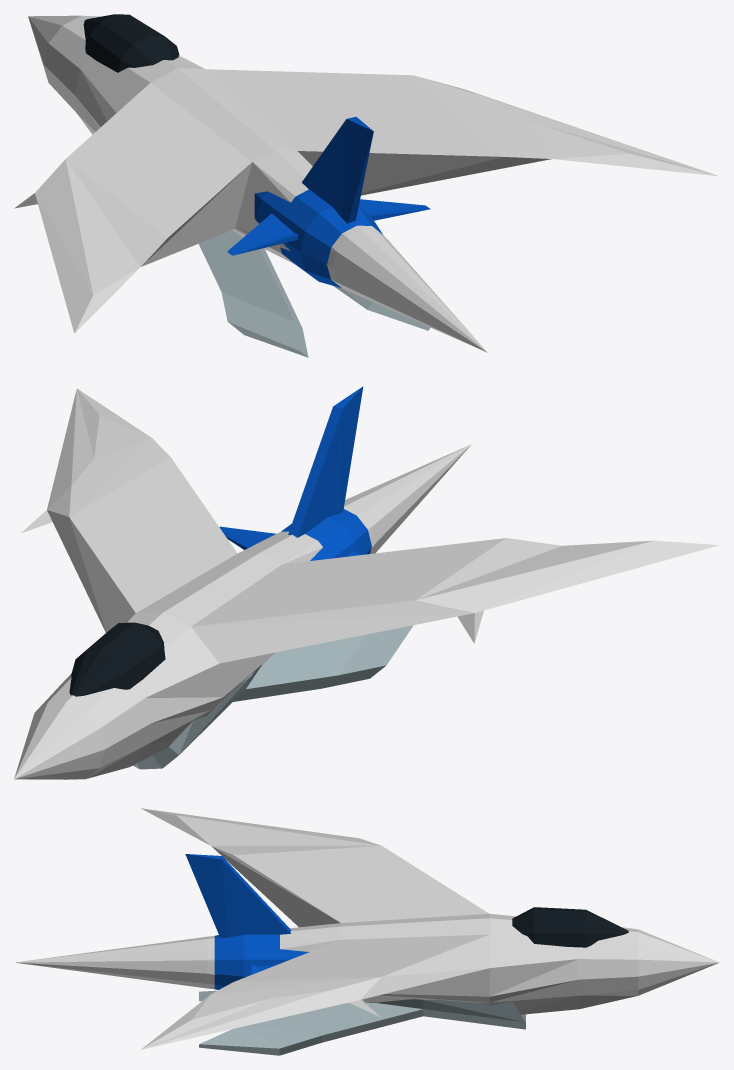
The model's file is jet.obj.
3 views of the same model, one above another, from view 1: azimuth 30°, elevation 25°; view 2: azimuth 150°, elevation 25°; view 3: azimuth 270°, elevation 25° (orthographic). The views are drawn at different scales.
Parts seen in each view (by area): view 1: group1908365863, group1246711120, group1270747425, group2037710231, group1499290911; view 2: group1908365863, group1246711120, group1270747425, group1499290911, group2037710231; view 3: group1908365863, group1246711120, group1270747425, group1499290911, group2037710231.
Part boxes in pixels (box(x1,y1,x2,y2)): group1908365863: box(14, 15, 718, 352); group1246711120: box(199, 230, 430, 357); group1270747425: box(227, 116, 430, 255); group2037710231: box(254, 189, 382, 287); group1499290911: box(83, 14, 179, 72); group1908365863: box(14, 388, 718, 779); group1246711120: box(133, 625, 413, 769); group1270747425: box(219, 386, 363, 556); group1499290911: box(69, 622, 165, 696); group2037710231: box(281, 509, 371, 560); group1908365863: box(15, 808, 719, 1049); group1246711120: box(199, 990, 525, 1055); group1270747425: box(185, 854, 291, 974); group1499290911: box(512, 907, 628, 947); group2037710231: box(214, 934, 309, 989).
Bounding box in the file's own units: 0.77 × 0.2671 × 0.95.
